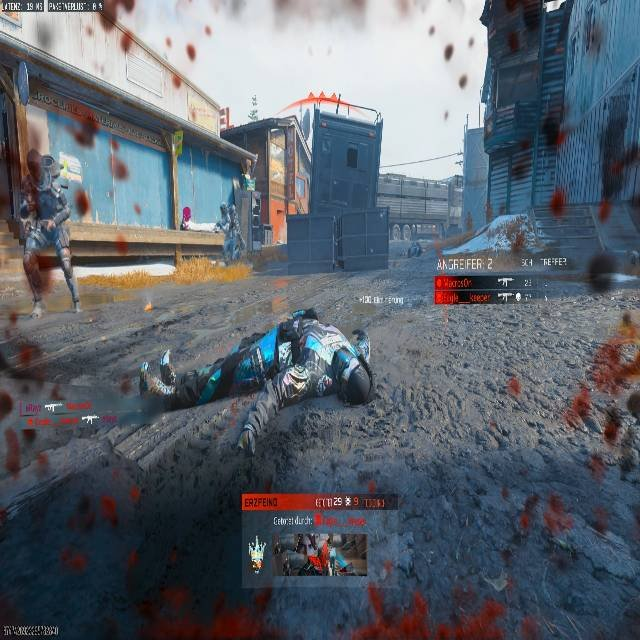head: (323, 350, 372, 406), (349, 328, 370, 360), (26, 148, 42, 179)
player: (16, 148, 85, 320), (216, 200, 242, 263), (182, 206, 192, 229)
